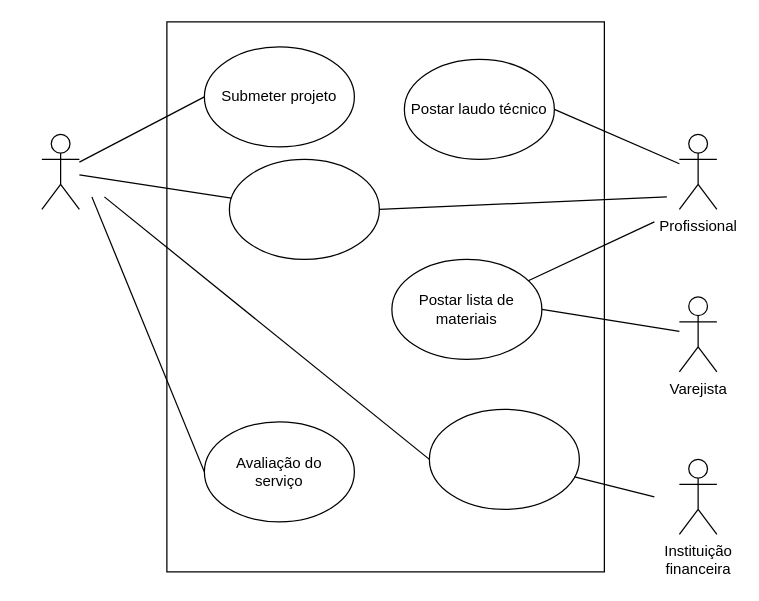
The diagram is 759 pixels wide and 601 high, and some of its shapes have lost their labels. The shapes that lost their labels are listed below. From the top down, each one's centre as x and y in pixels, then its label:
At pixel 60 171: "Contratante".
At pixel 303 208: "Contratar serviço".
At pixel 503 458: "Confirmar finalização do serviço".
